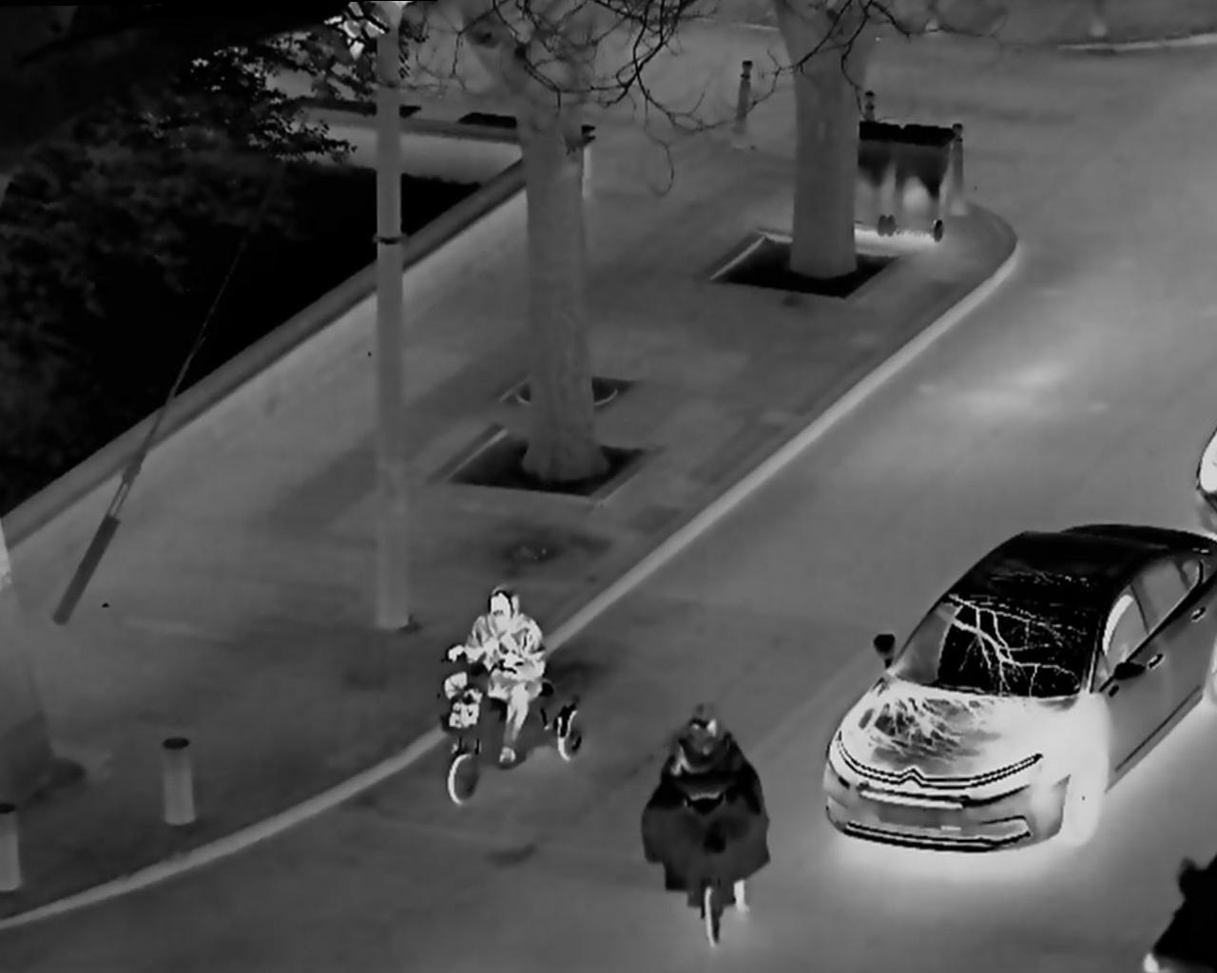person: (638, 682, 768, 936), (438, 564, 553, 787)
